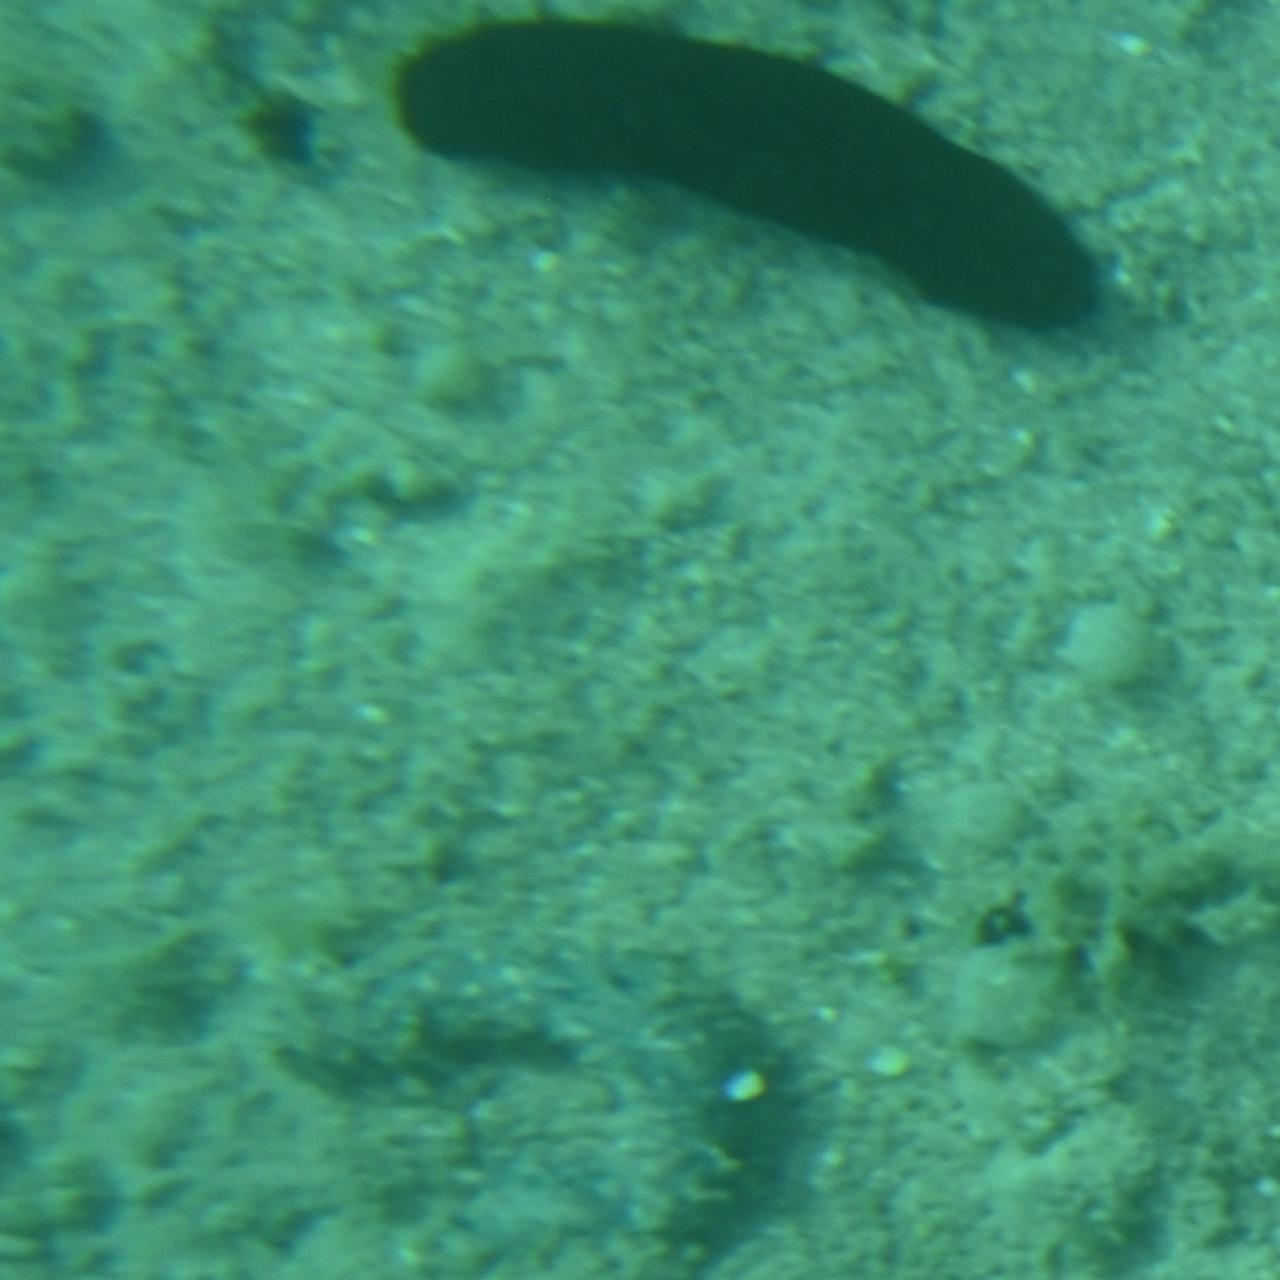Holothuria tubulosa: (382, 0, 1110, 341), (281, 938, 787, 1280)
